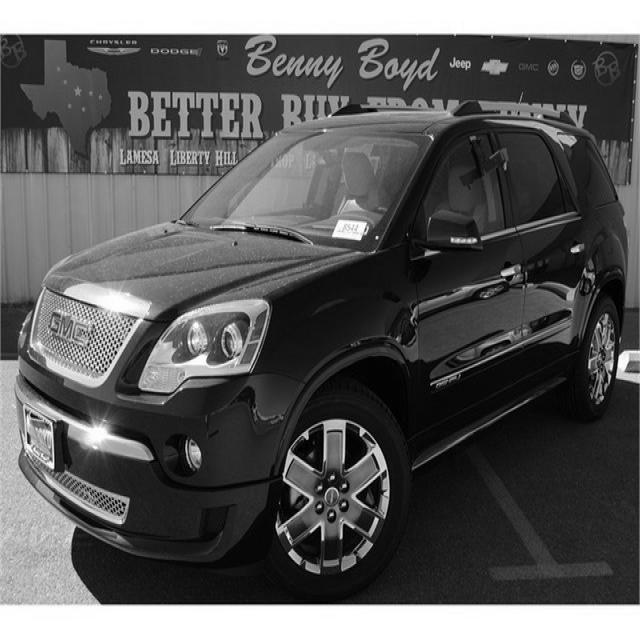car: (13, 97, 629, 600)
plat_license: (19, 408, 58, 472)
